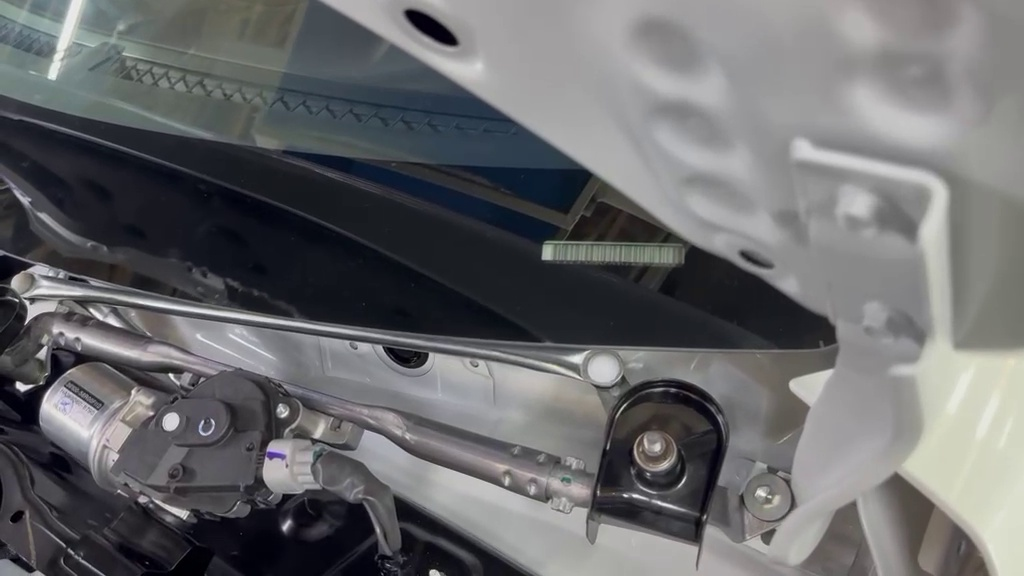barcode: (564, 367, 755, 574)
hinge: (512, 222, 715, 283)
